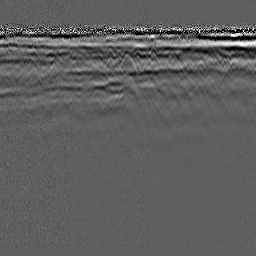cavity: (119, 52, 138, 76)
